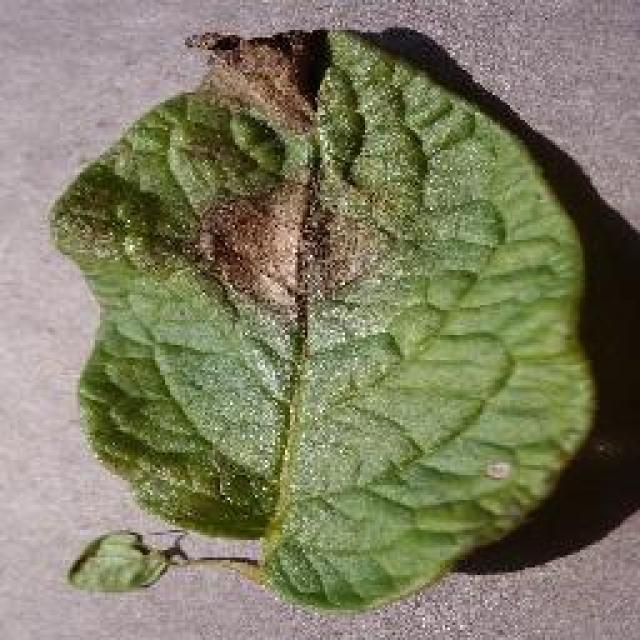late_blight: (45, 23, 600, 615)
